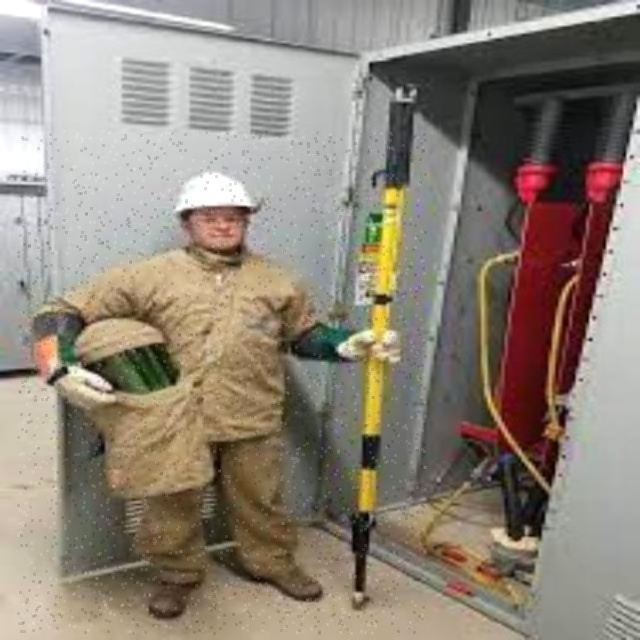boots: (141, 570, 213, 619), (257, 562, 332, 605)
gloves: (49, 361, 114, 416), (338, 326, 406, 366)
